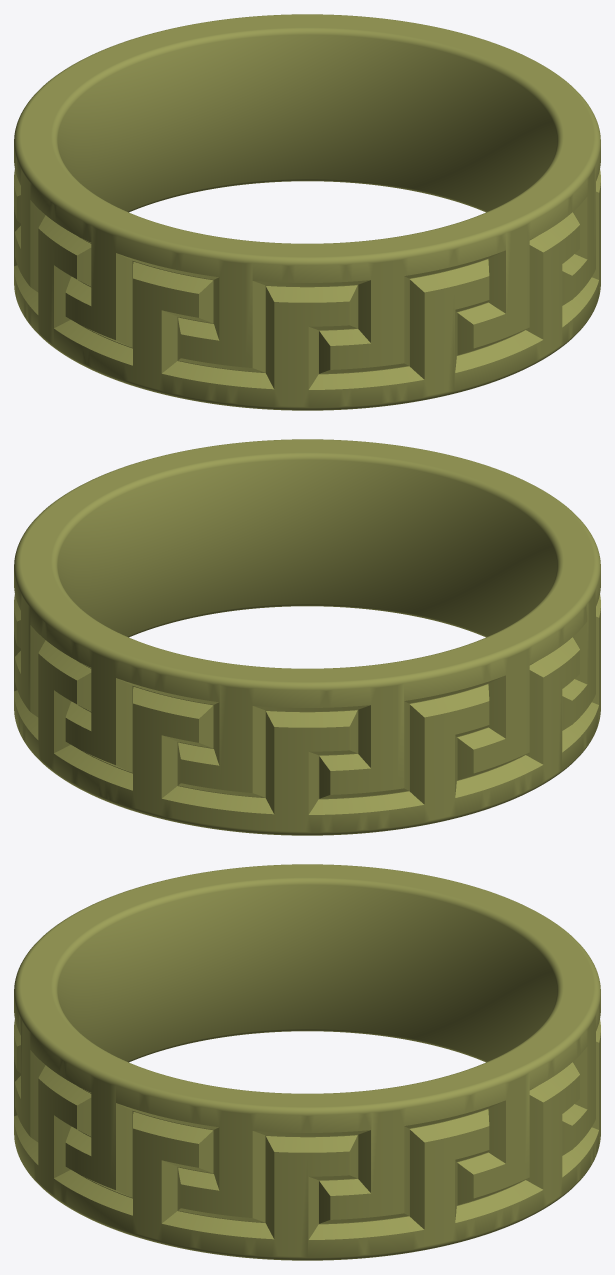
The model's file is ring_01.glb.
3 views of the same model, one above another, from view 1: azimuth 30°, elevation 25°; view 2: azimuth 150°, elevation 25°; view 3: azimuth 270°, elevation 25° (orthographic).
Visible parts, largest first — view 1: uploads_files_5917818_03-GR-01-018-RT-53; view 2: uploads_files_5917818_03-GR-01-018-RT-53; view 3: uploads_files_5917818_03-GR-01-018-RT-53.
Part boxes in pixels (left/top/right/bottom): uploads_files_5917818_03-GR-01-018-RT-53: left=14, top=14, right=600, bottom=410; uploads_files_5917818_03-GR-01-018-RT-53: left=14, top=439, right=600, bottom=835; uploads_files_5917818_03-GR-01-018-RT-53: left=14, top=864, right=600, bottom=1260.
Size of the model in its own units: 20.87 by 6 by 20.87.
1 material, 1 textured.
